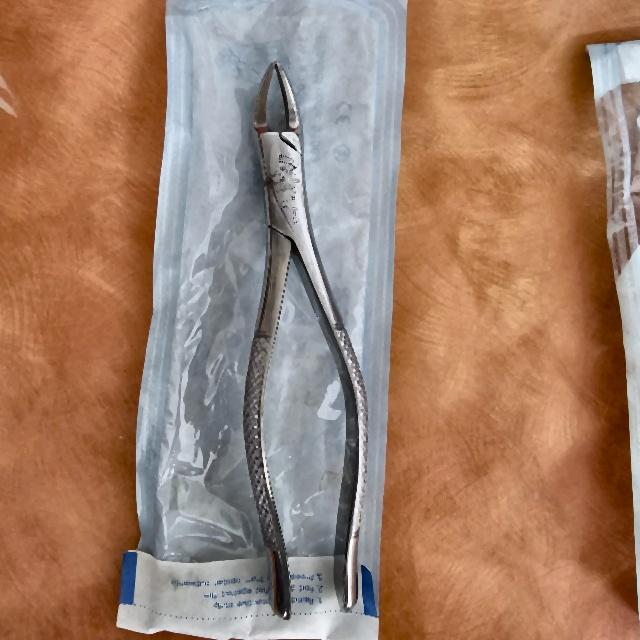forceps: (243, 63, 368, 621)
